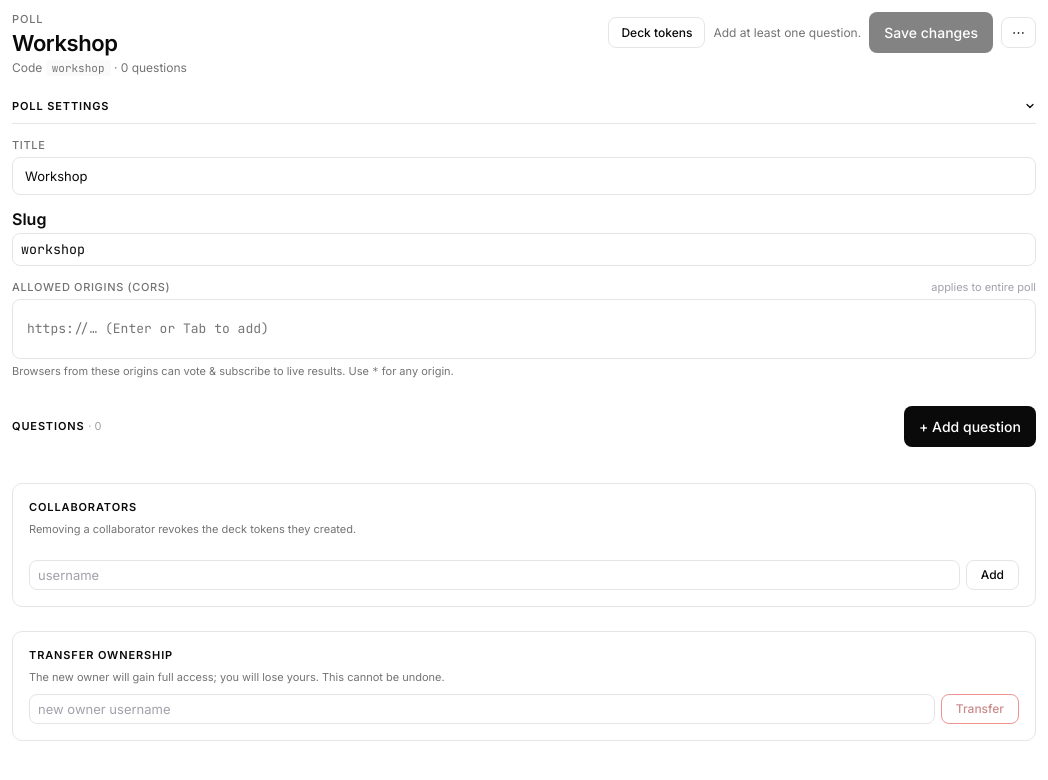
Test: PollEditorPage — edit mode › hides Clear votes and Delete behind an overflow menu
Click the button with test id "menu-trigger".
click(1018, 32)  # box [1001,17,1036,48]
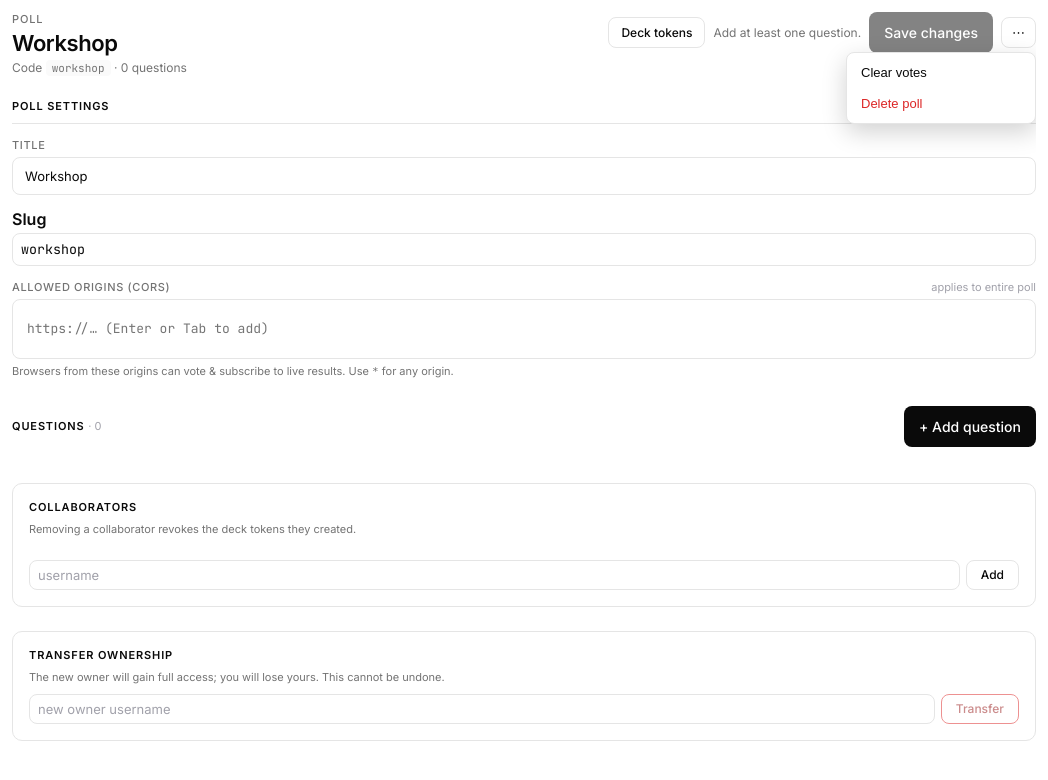
Expected: the menu item with test id "menu-item-clear-votes" is shown, [851,57,1031,88]
Expected: the menu item with test id "menu-item-delete" is shown, [851,88,1031,119]
